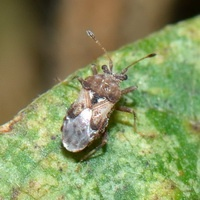insect: (62, 30, 155, 152)
